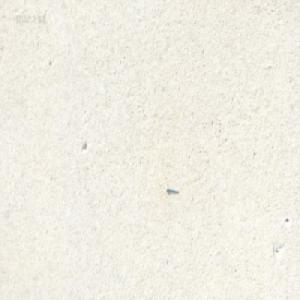Nail: (165, 184, 178, 192)
